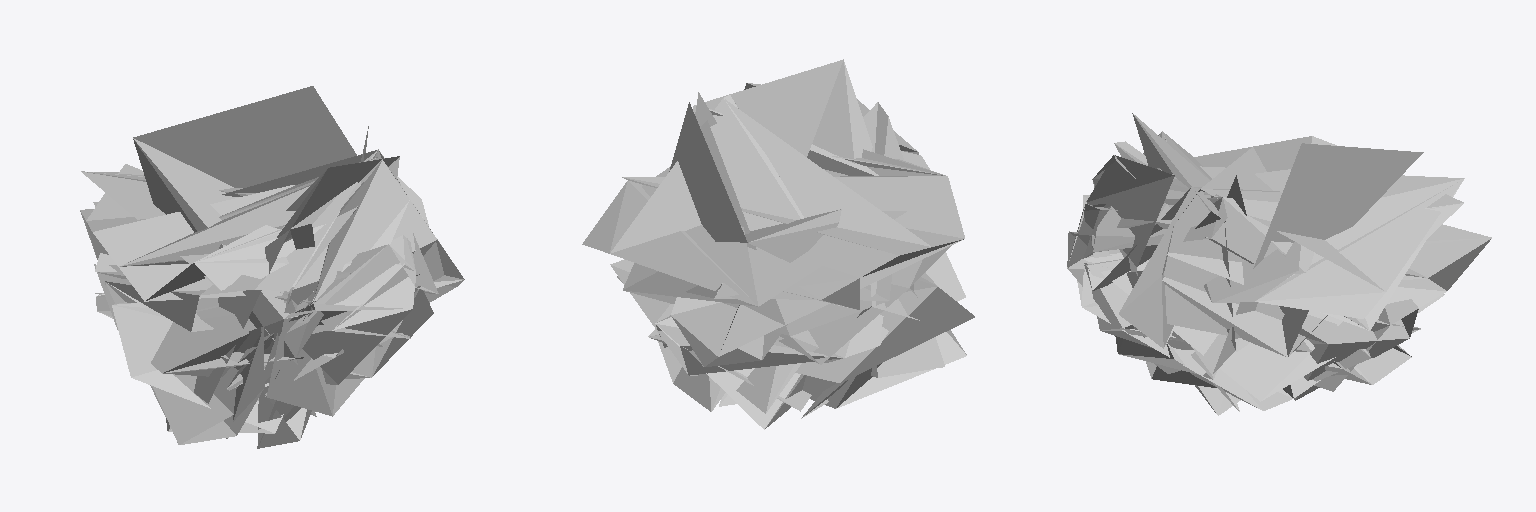
Rendered from kamen2.obj.
The picture shows the model from 3 angles: view 1: azimuth 30°, elevation 25°; view 2: azimuth 150°, elevation 25°; view 3: azimuth 270°, elevation 25°; orthographic projection.
Bounding box in the file's own units: 242 × 202 × 268.